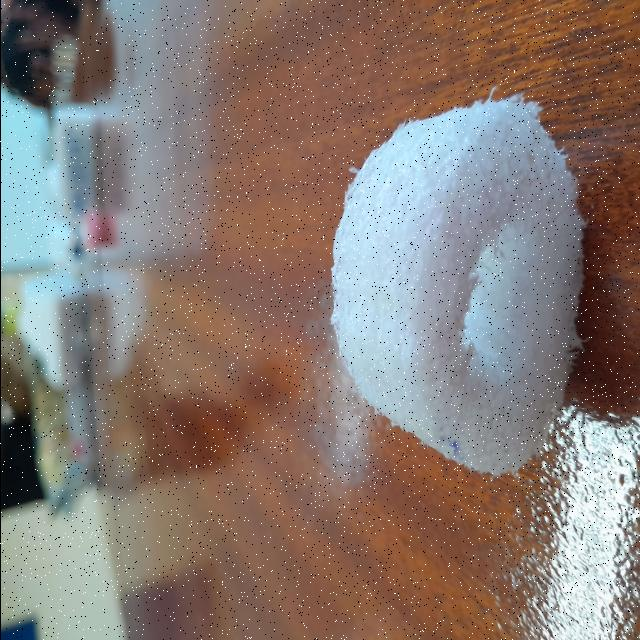wheel: (330, 96, 584, 492)
